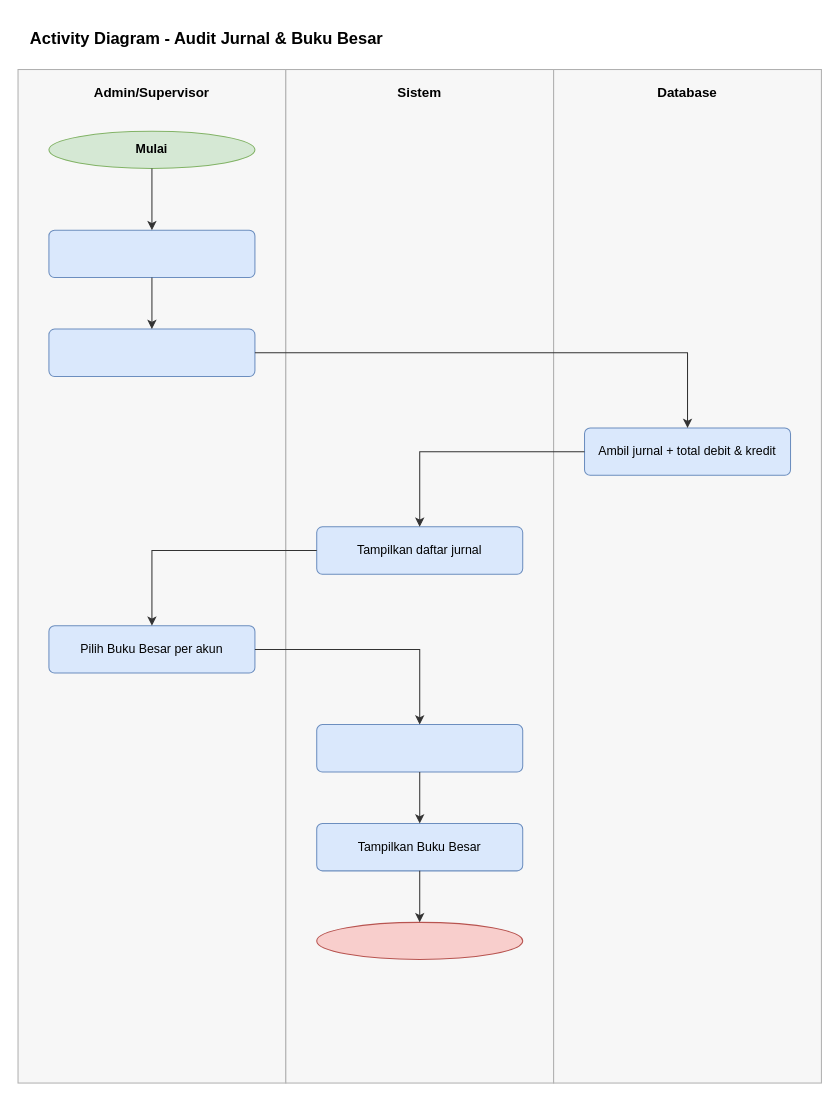
Some shapes in this 839 by 1101 pixel diagram are drawn without their labels. The shapes that lost their labels are listed below. From the top down, each one's centre as x and y in pixels, then its label:
At (x=151, y=253): "Buka audit jurnal".
At (x=151, y=352): "Filter nomor transaksi / kode akun / tanggal".
At (x=419, y=748): "Hitung saldo akhir sesuai normal balance".
At (x=419, y=940): "Selesai".
